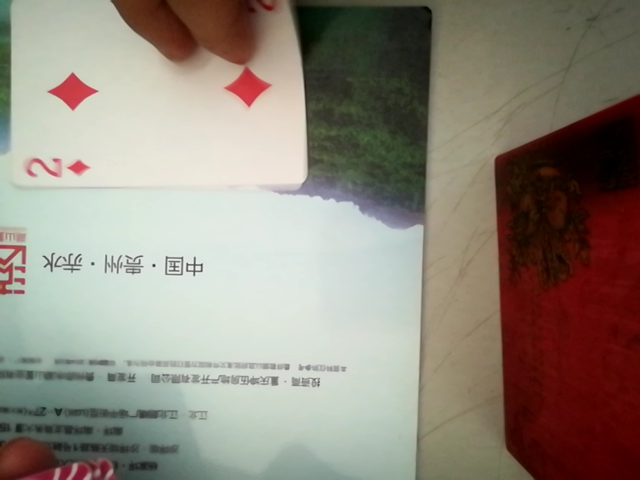fk 2: (1, 0, 317, 189)
